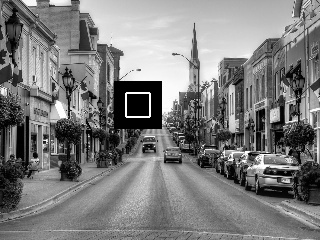square: (114, 81, 162, 129)
